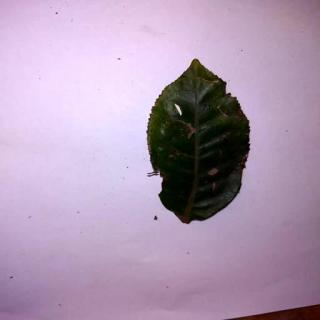Anthracnose: (151, 61, 252, 228)
